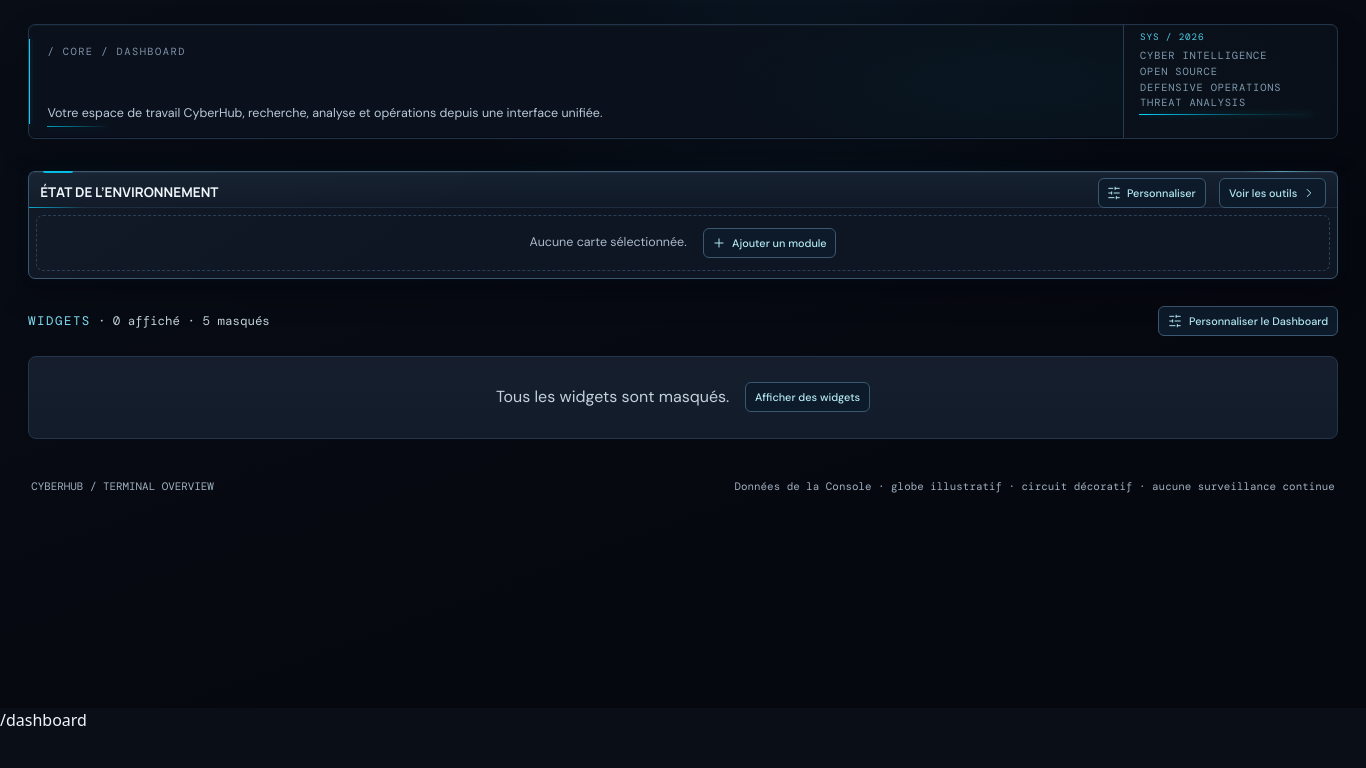
Test case: Dashboard 2026 — comportement de référence › propose de réafficher les widgets quand tous sont masqués
Expected: the text "Tous les widgets sont masqués." is shown, 496,384 -> 729,411
Click the button "Afficher des widgets" at (808, 398), box 745,382 -> 870,412
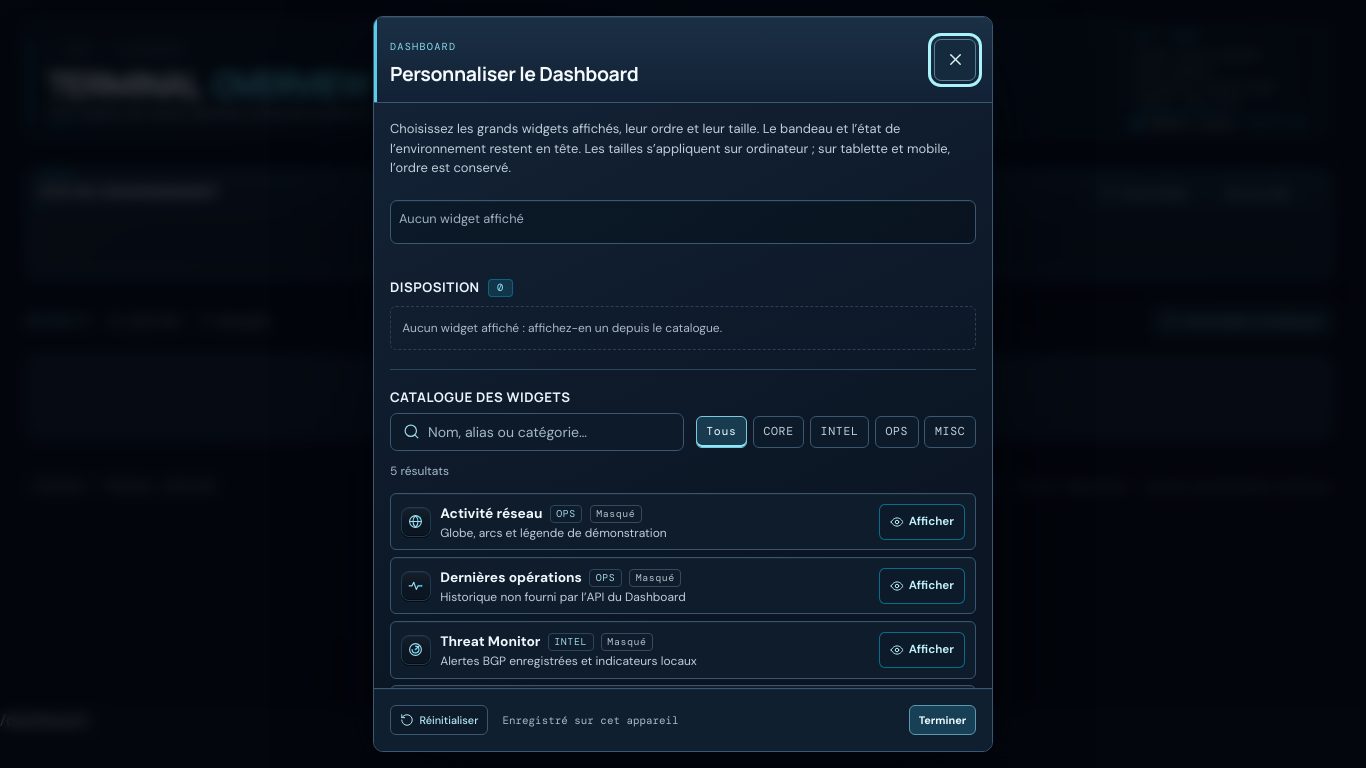
Now the dialog is shown, box 373,16 -> 993,752
